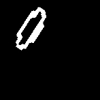chain: (16, 8, 45, 49)
